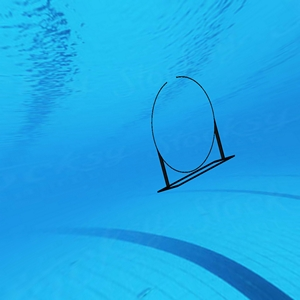circle: (144, 73, 239, 197)
